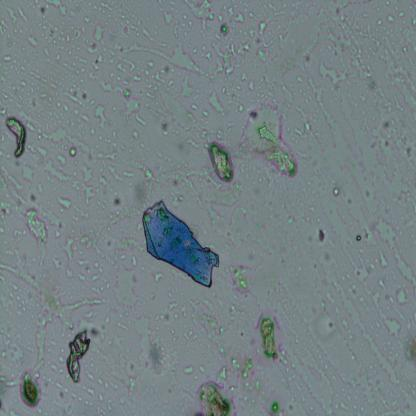Background material: (0, 255, 99, 337), (278, 53, 330, 139), (68, 201, 139, 263), (246, 101, 297, 181), (124, 32, 208, 78), (374, 219, 416, 309), (0, 59, 71, 110), (182, 297, 239, 356), (314, 304, 356, 377), (89, 352, 139, 412), (327, 14, 372, 74), (99, 75, 147, 128), (128, 157, 196, 192), (1, 353, 45, 406), (157, 76, 198, 132), (208, 35, 253, 81), (136, 309, 167, 373), (47, 25, 94, 67), (372, 26, 414, 72), (194, 365, 232, 415), (365, 121, 411, 162), (36, 143, 74, 187), (23, 202, 50, 258), (257, 309, 284, 363), (65, 328, 91, 382), (371, 293, 400, 339), (208, 139, 236, 186), (112, 261, 138, 309), (344, 227, 366, 281), (38, 373, 70, 409), (76, 163, 104, 204), (46, 128, 90, 154), (0, 280, 33, 314), (229, 356, 258, 392), (5, 114, 27, 158), (185, 0, 215, 32), (258, 387, 291, 416), (0, 169, 13, 240), (158, 294, 187, 325), (318, 59, 349, 86), (231, 262, 252, 296), (90, 143, 121, 166), (74, 257, 100, 284), (95, 169, 121, 195), (74, 382, 99, 408), (5, 2, 30, 27), (88, 54, 104, 84), (332, 394, 353, 416), (64, 85, 86, 106), (46, 0, 69, 19), (92, 101, 108, 128), (103, 312, 127, 330), (207, 91, 225, 115), (92, 130, 119, 145), (314, 224, 330, 249), (62, 233, 75, 263), (401, 336, 416, 360), (49, 352, 66, 372), (57, 192, 72, 214), (227, 6, 245, 24), (19, 163, 36, 182), (180, 357, 196, 376), (72, 107, 90, 123), (129, 124, 148, 139), (377, 247, 389, 270), (12, 228, 28, 245), (0, 128, 10, 155), (396, 285, 408, 307), (93, 24, 105, 44), (258, 18, 270, 38), (169, 329, 180, 349), (242, 72, 254, 90), (164, 10, 174, 26), (2, 54, 14, 66), (220, 23, 230, 37), (29, 33, 38, 48), (332, 185, 341, 199), (68, 146, 76, 159), (387, 14, 396, 23), (377, 18, 384, 26)
Fragment: (143, 200, 220, 289)
